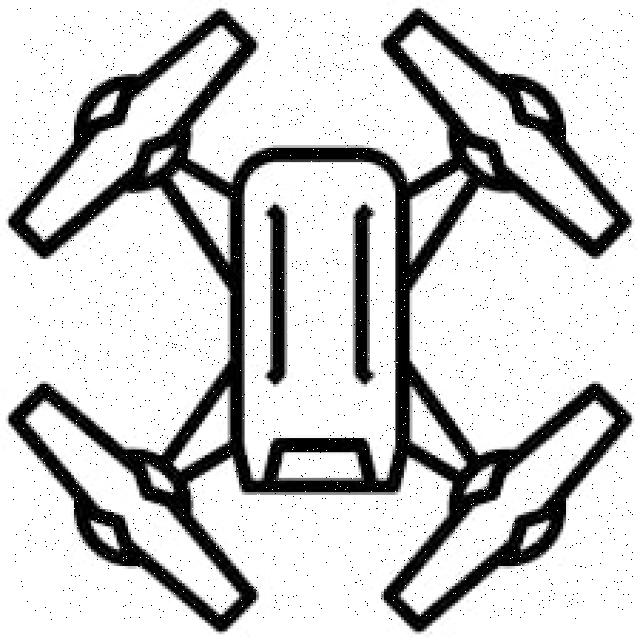drone: (14, 9, 635, 621)
